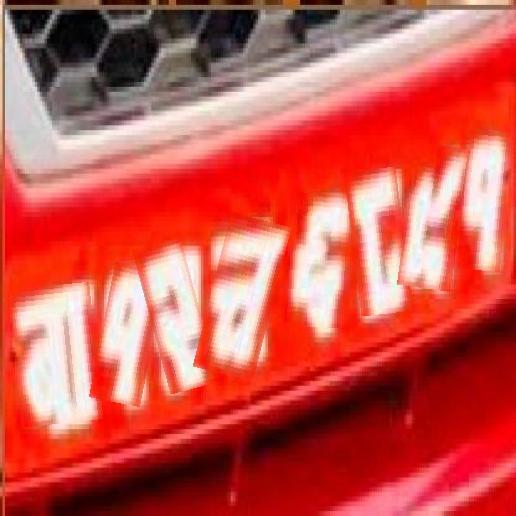1: (96, 264, 160, 406), (461, 130, 509, 271)
2: (142, 239, 210, 392)
6: (289, 193, 354, 329)
8: (348, 168, 409, 315)
9: (402, 144, 466, 291)
ba: (14, 284, 100, 426)
cha: (202, 215, 282, 379)
